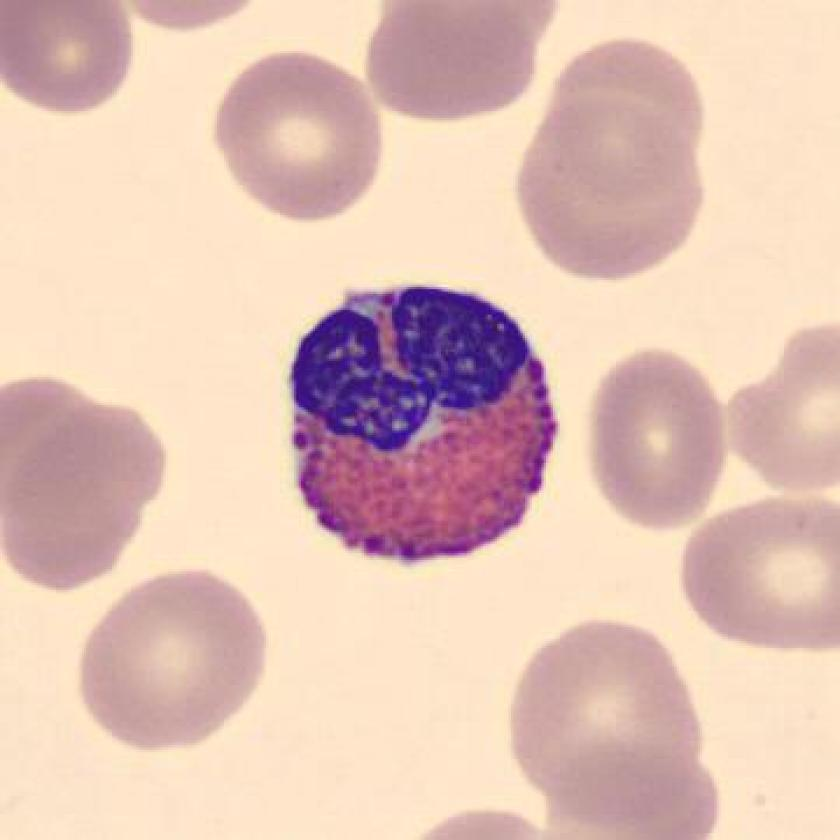eosinophil: (274, 265, 568, 579)
